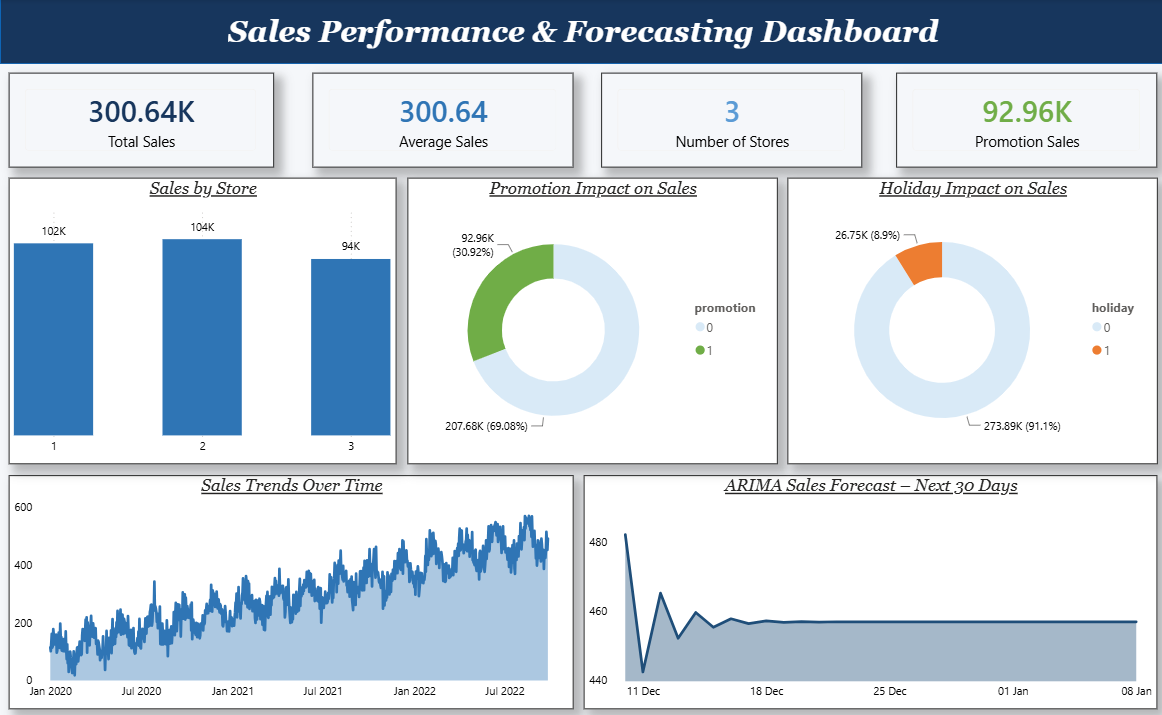

The dashboard page shown, as its layout file describes it:
{"tool":"powerbi","page":{"name":"Page 1","canvas":[1280,790],"ordinal":0},"visuals":[{"type":"shape","box":[0,0,1280.3,71.4],"z":0},{"type":"cardVisual","fields":{"Data":["Measure Table.Total Sales"]},"box":[9.6,81,290.9,104.3],"z":1000},{"type":"cardVisual","fields":{"Data":["Measure Table.Average Sales"]},"box":[343.1,81,286.8,104.3],"z":2000},{"type":"cardVisual","fields":{"Data":["Measure Table.Number of Stores"]},"box":[660,81,286.8,104.3],"z":3000},{"type":"cardVisual","fields":{"Data":["Measure Table.Promotion Sales"]},"box":[983.9,81,286.8,104.3],"z":4000},{"type":"lineChart","title":"Sales Trends Over Time","fields":{"Y":["Measure Table.Total Sales"],"Category":["Date Table.Date"]},"box":[9.6,522.8,620.2,256.6],"z":5000},{"type":"lineChart","title":"ARIMA Sales Forecast – Next 30 Days","fields":{"Y":["Sum(forecast_results.forecast_sales)"],"Category":["forecast_results.date"]},"box":[640.8,522.8,629.8,256.6],"z":6000},{"type":"clusteredColumnChart","title":"Sales by Store","fields":{"Category":["sales_forecasting_data.store_id"],"Y":["Measure Table.Total Sales"]},"box":[9.6,196.2,425.4,314.2],"z":7000},{"type":"donutChart","title":"Promotion Impact on Sales","fields":{"Category":["sales_forecasting_data.promotion"],"Y":["Measure Table.Total Sales"]},"box":[447.3,196.2,406.2,314.2],"z":8000},{"type":"donutChart","title":"Holiday Impact on Sales","fields":{"Category":["sales_forecasting_data.holiday"],"Y":["Measure Table.Total Sales"]},"box":[864.5,196.2,406.2,314.2],"z":9000}]}

Visuals, with their boxes in screenshot pixels (x1, y1, x2, y2), scaled from the page's 1280x790 canvas onto the 1162x715 screenshot:
shape: {"left": 0, "top": 0, "right": 1161, "bottom": 65}
cardVisual - Measure Table.Total Sales: {"left": 9, "top": 73, "right": 273, "bottom": 168}
cardVisual - Measure Table.Average Sales: {"left": 311, "top": 73, "right": 572, "bottom": 168}
cardVisual - Measure Table.Number of Stores: {"left": 599, "top": 73, "right": 860, "bottom": 168}
cardVisual - Measure Table.Promotion Sales: {"left": 893, "top": 73, "right": 1154, "bottom": 168}
"Sales Trends Over Time" lineChart: {"left": 9, "top": 473, "right": 572, "bottom": 705}
"ARIMA Sales Forecast – Next 30 Days" lineChart: {"left": 582, "top": 473, "right": 1153, "bottom": 705}
"Sales by Store" clusteredColumnChart: {"left": 9, "top": 178, "right": 395, "bottom": 462}
"Promotion Impact on Sales" donutChart: {"left": 406, "top": 178, "right": 775, "bottom": 462}
"Holiday Impact on Sales" donutChart: {"left": 785, "top": 178, "right": 1154, "bottom": 462}
